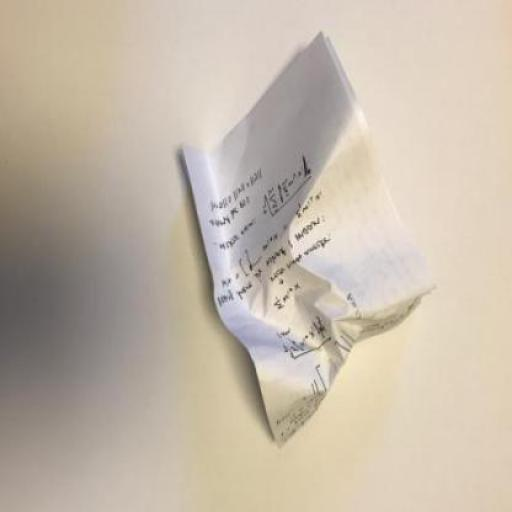paper: (182, 28, 440, 446)
